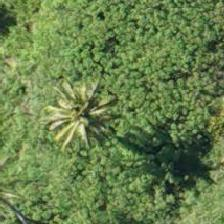coconut_tree: (46, 67, 136, 157)
